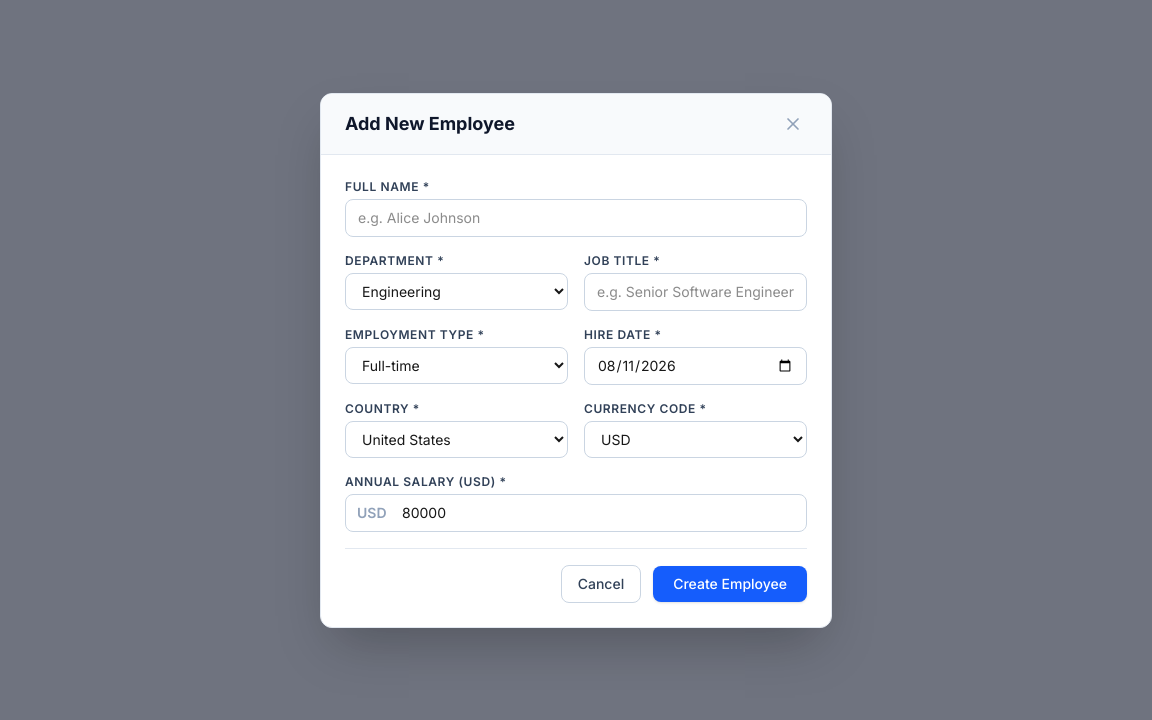
Test: EmployeeFormModal Component › validates required fields on submission
The image size is (1152, 720).
Click the button "Create Employee": (730, 584) [653, 566, 807, 602]
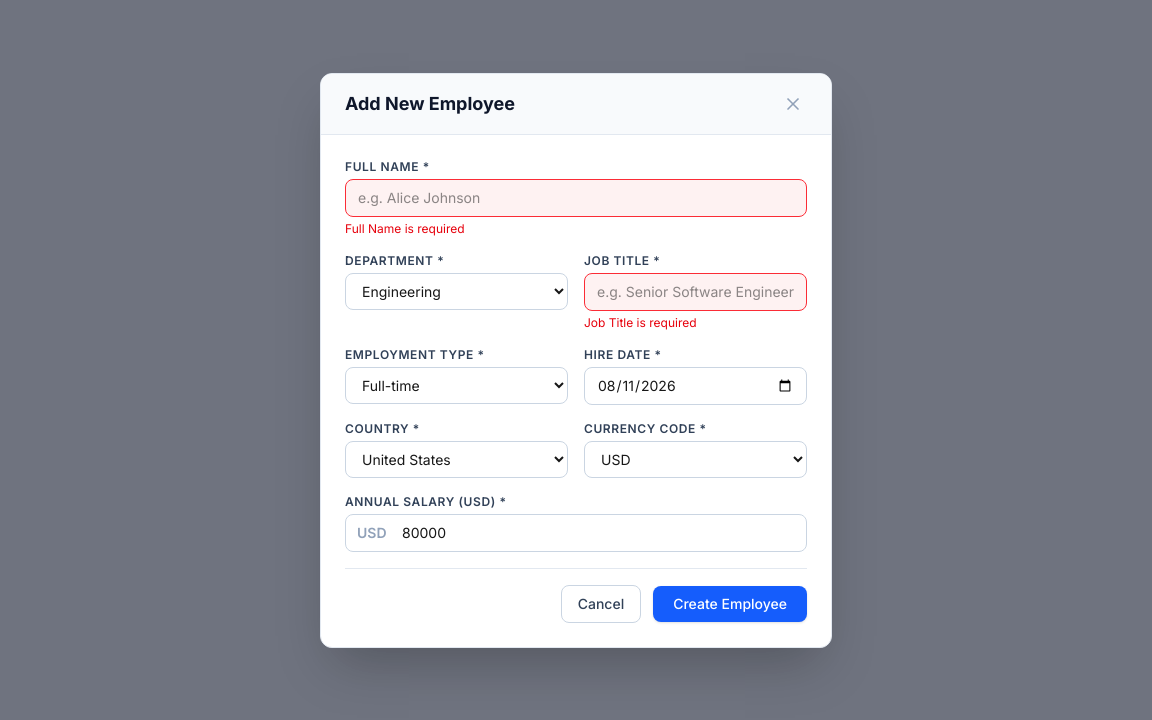
Now the text "Full Name is required" is shown, box [345, 220, 465, 236]
